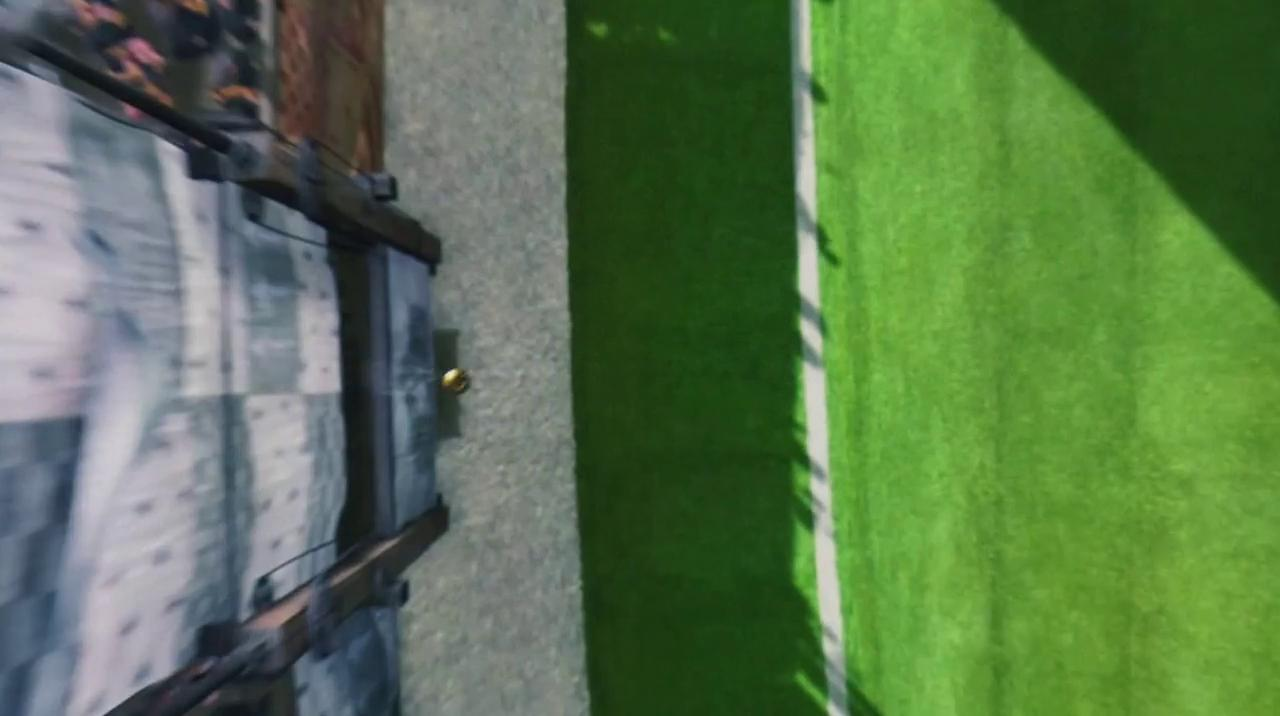snitch: (442, 367, 470, 396)
